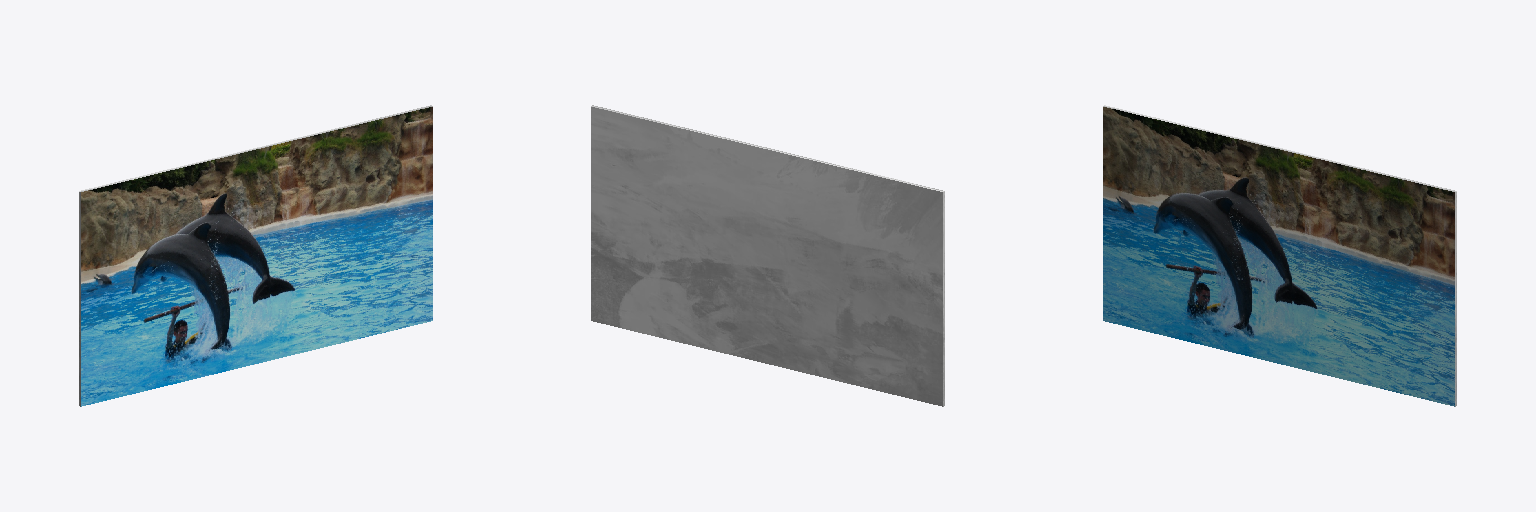
3 views of the same model, side by side, from view 1: azimuth 30°, elevation 25°; view 2: azimuth 150°, elevation 25°; view 3: azimuth 330°, elevation 25° (orthographic).
Visible parts, largest first — view 1: Box001; view 2: Box001; view 3: Box001.
Boxes of the visible parts, <box> form: Box001: <box>79,105,432,406</box>; Box001: <box>591,105,944,406</box>; Box001: <box>1103,105,1456,406</box>.
Size of the model in its own units: 28.52 by 16.58 by 0.2514.
Materials: 2 (2 with a texture image).